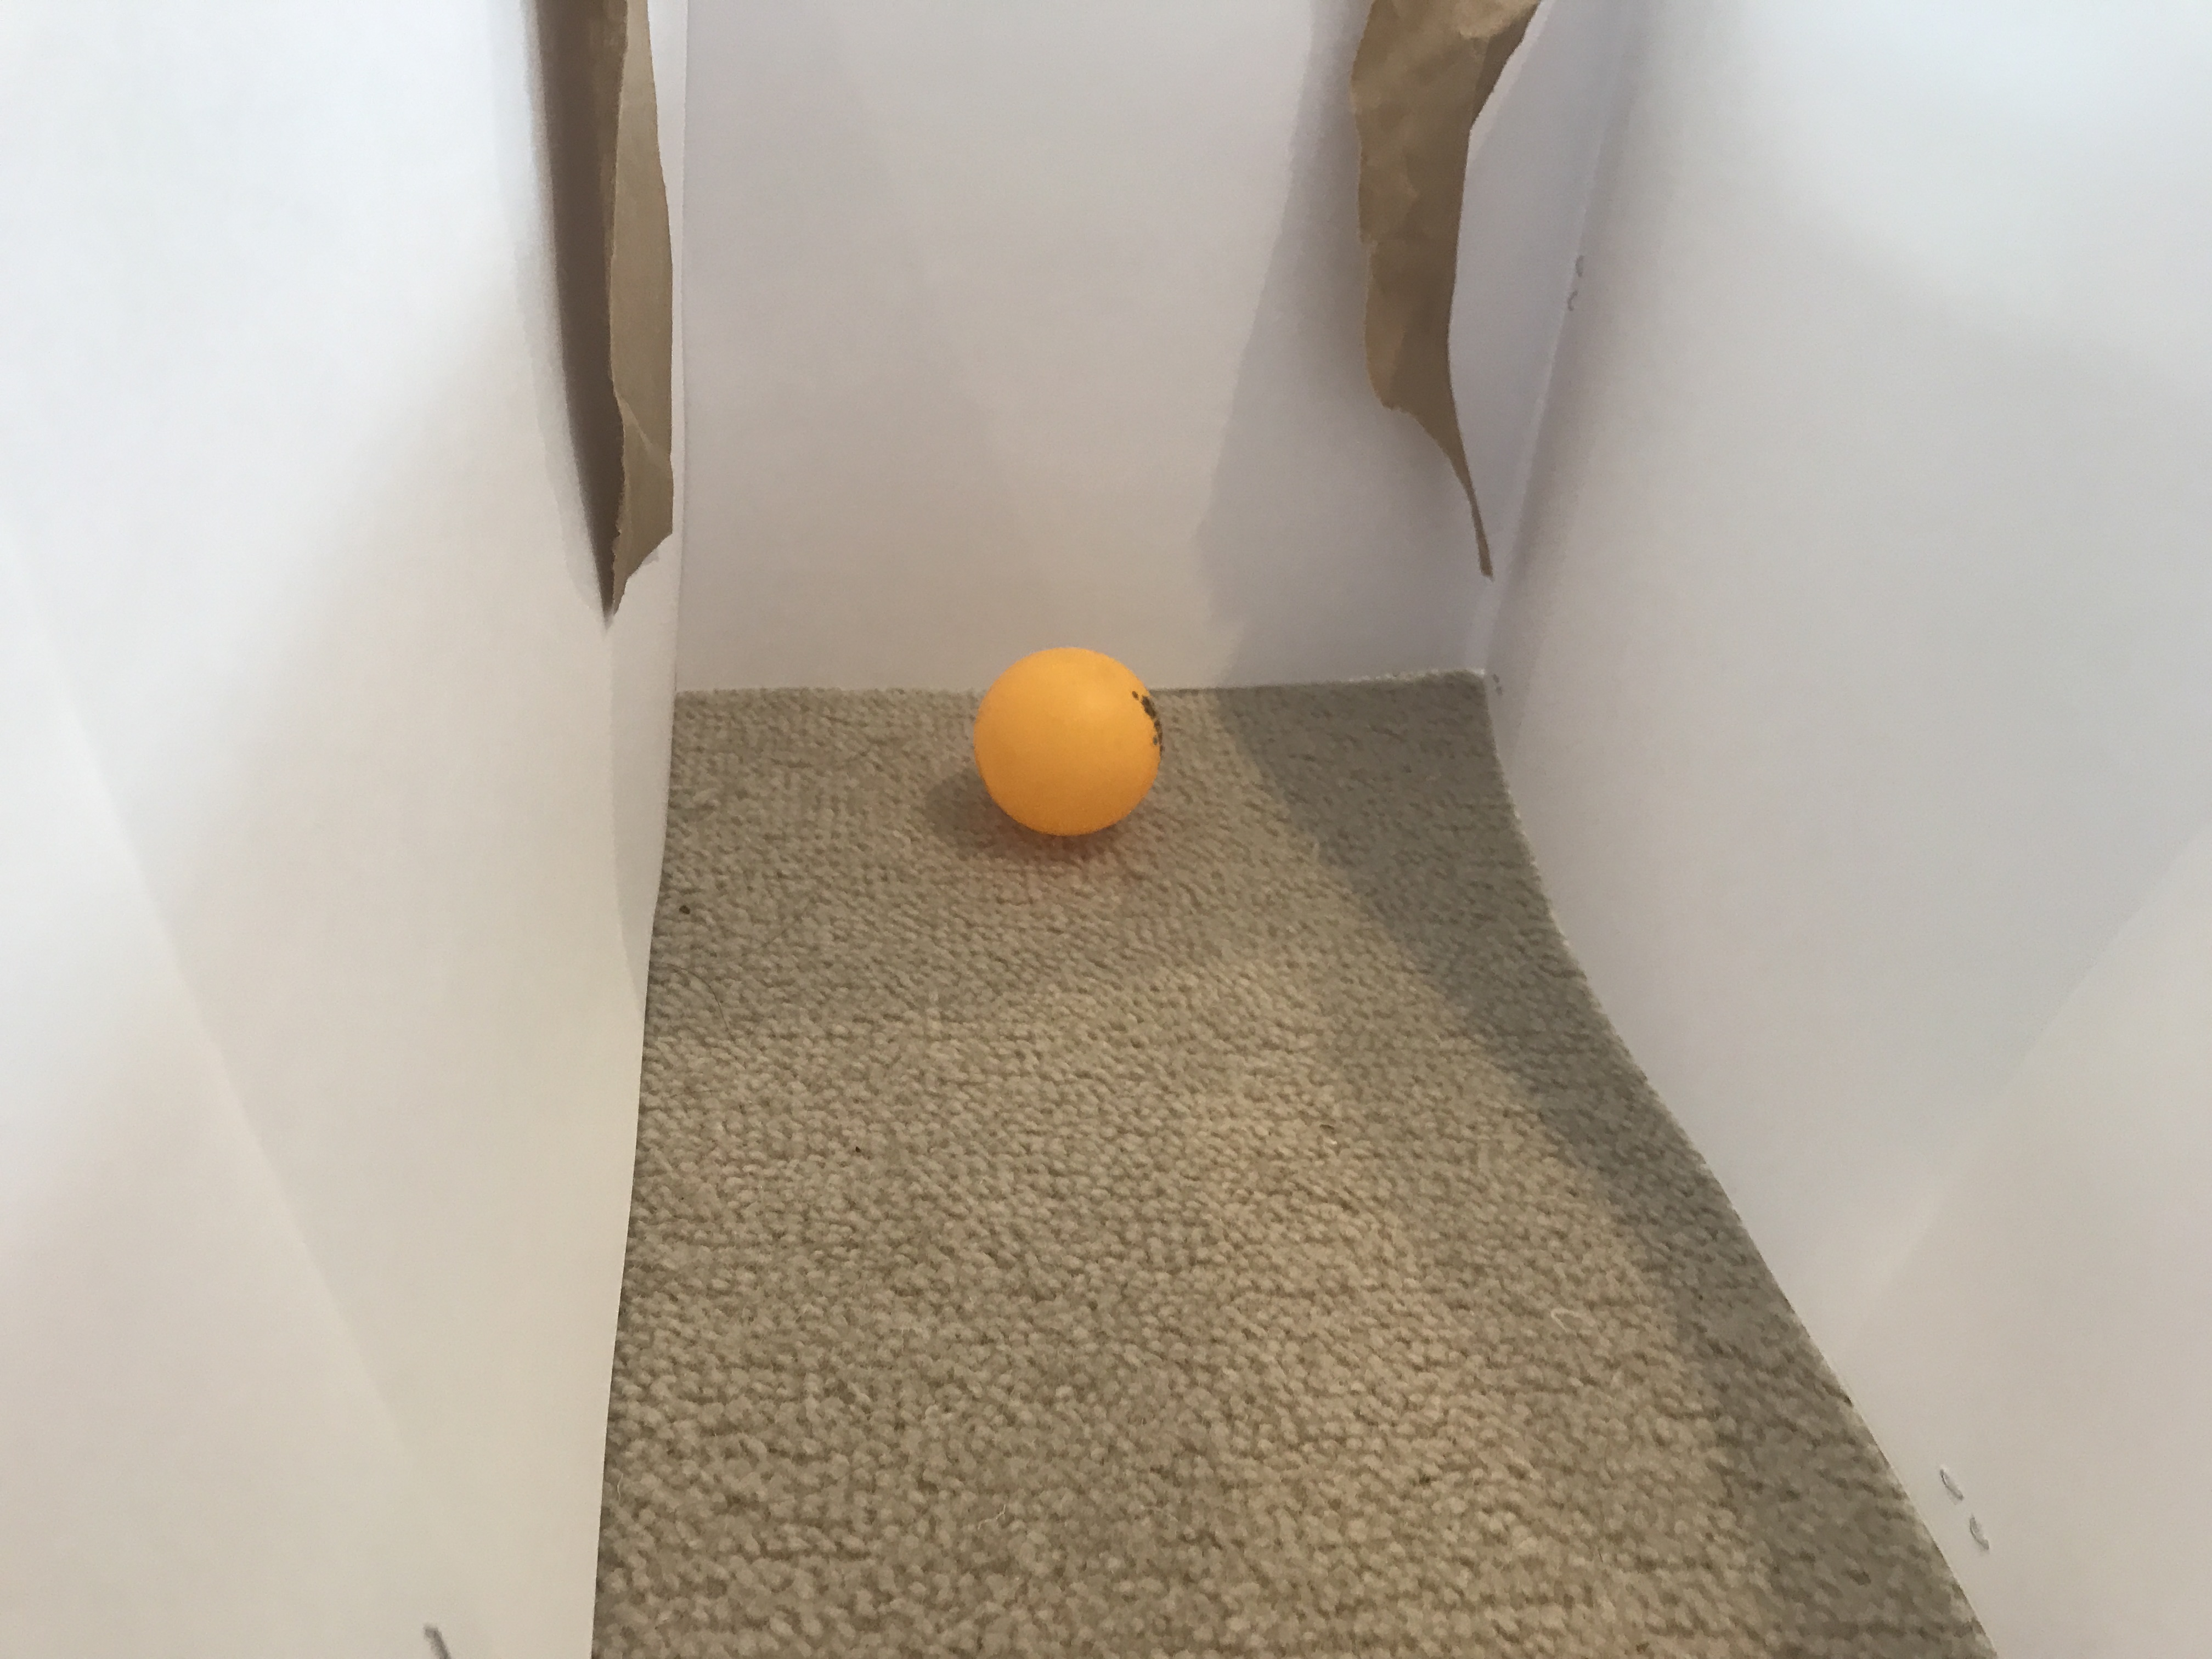pp: (968, 638, 1179, 843)
